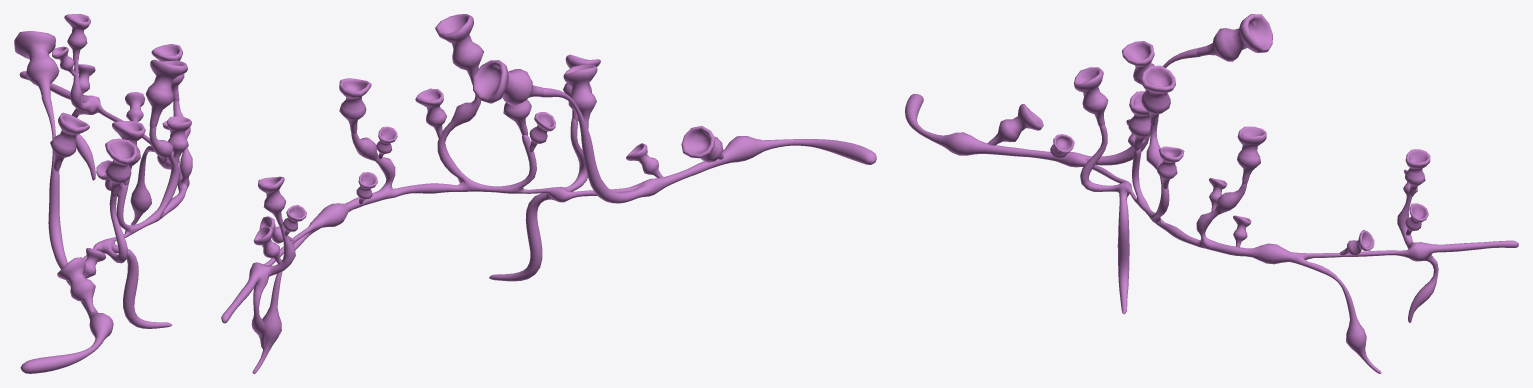
The model's file is SM_Plante_grimpante.fbx.
3 renders of one model, left to right at view 1: azimuth 30°, elevation 25°; view 2: azimuth 150°, elevation 25°; view 3: azimuth 270°, elevation 25°, orthographic. The views are drawn at different scales.
Parts seen in each view (by area): view 1: plante grimpante1, Tete_grimpante_low011, Tete_grimpante_low, Tete_grimpante_low012, Tete_grimpante_low013, Tete_grimpante_low014, Tete_grimpante_low004, Tete_grimpante_low001, Tete_grimpante_low008, Tete_grimpante_low002, Tete_grimpante_low007, Tete_grimpante_low015 (+3 smaller); view 2: plante grimpante1, Tete_grimpante_low011, Tete_grimpante_low, Tete_grimpante_low013, Tete_grimpante_low014, Tete_grimpante_low002, Tete_grimpante_low001, Tete_grimpante_low004, Tete_grimpante_low009, Tete_grimpante_low015, Tete_grimpante_low006, Tete_grimpante_low008; view 3: plante grimpante1, Tete_grimpante_low011, Tete_grimpante_low, Tete_grimpante_low012, Tete_grimpante_low002, Tete_grimpante_low014, Tete_grimpante_low008, Tete_grimpante_low013, Tete_grimpante_low004, Tete_grimpante_low001.
Part boxes in pixels (x1=…): plante grimpante1: x1=19, y1=59, x2=192, y2=373; Tete_grimpante_low011: x1=14, y1=31, x2=59, y2=97; Tete_grimpante_low: x1=145, y1=59, x2=187, y2=128; Tete_grimpante_low012: x1=105, y1=138, x2=137, y2=196; Tete_grimpante_low013: x1=50, y1=112, x2=89, y2=171; Tete_grimpante_low014: x1=57, y1=257, x2=95, y2=313; Tete_grimpante_low004: x1=64, y1=14, x2=90, y2=64; Tete_grimpante_low001: x1=167, y1=116, x2=191, y2=164; Tete_grimpante_low008: x1=112, y1=121, x2=145, y2=185; Tete_grimpante_low002: x1=151, y1=44, x2=184, y2=101; Tete_grimpante_low007: x1=125, y1=92, x2=145, y2=122; Tete_grimpante_low015: x1=83, y1=248, x2=105, y2=278; plante grimpante1: x1=221, y1=88, x2=876, y2=373; Tete_grimpante_low011: x1=473, y1=60, x2=544, y2=105; Tete_grimpante_low: x1=435, y1=14, x2=484, y2=85; Tete_grimpante_low013: x1=563, y1=64, x2=597, y2=129; Tete_grimpante_low014: x1=681, y1=125, x2=723, y2=162; Tete_grimpante_low002: x1=339, y1=78, x2=371, y2=134; Tete_grimpante_low001: x1=415, y1=88, x2=446, y2=138; Tete_grimpante_low004: x1=258, y1=176, x2=286, y2=226; Tete_grimpante_low009: x1=529, y1=112, x2=555, y2=152; Tete_grimpante_low015: x1=626, y1=143, x2=663, y2=178; Tete_grimpante_low006: x1=253, y1=226, x2=281, y2=264; Tete_grimpante_low008: x1=503, y1=99, x2=531, y2=135; plante grimpante1: x1=905, y1=47, x2=1518, y2=373; Tete_grimpante_low011: x1=1195, y1=14, x2=1272, y2=61; Tete_grimpante_low: x1=1140, y1=65, x2=1175, y2=126; Tete_grimpante_low012: x1=1074, y1=67, x2=1108, y2=126; Tete_grimpante_low002: x1=1237, y1=126, x2=1266, y2=184; Tete_grimpante_low014: x1=987, y1=104, x2=1043, y2=145; Tete_grimpante_low008: x1=1128, y1=91, x2=1150, y2=150; Tete_grimpante_low013: x1=1122, y1=41, x2=1154, y2=90; Tete_grimpante_low004: x1=1405, y1=149, x2=1430, y2=196; Tete_grimpante_low001: x1=1157, y1=146, x2=1184, y2=188.
Size of the model in its own units: 259 by 199 by 397.
